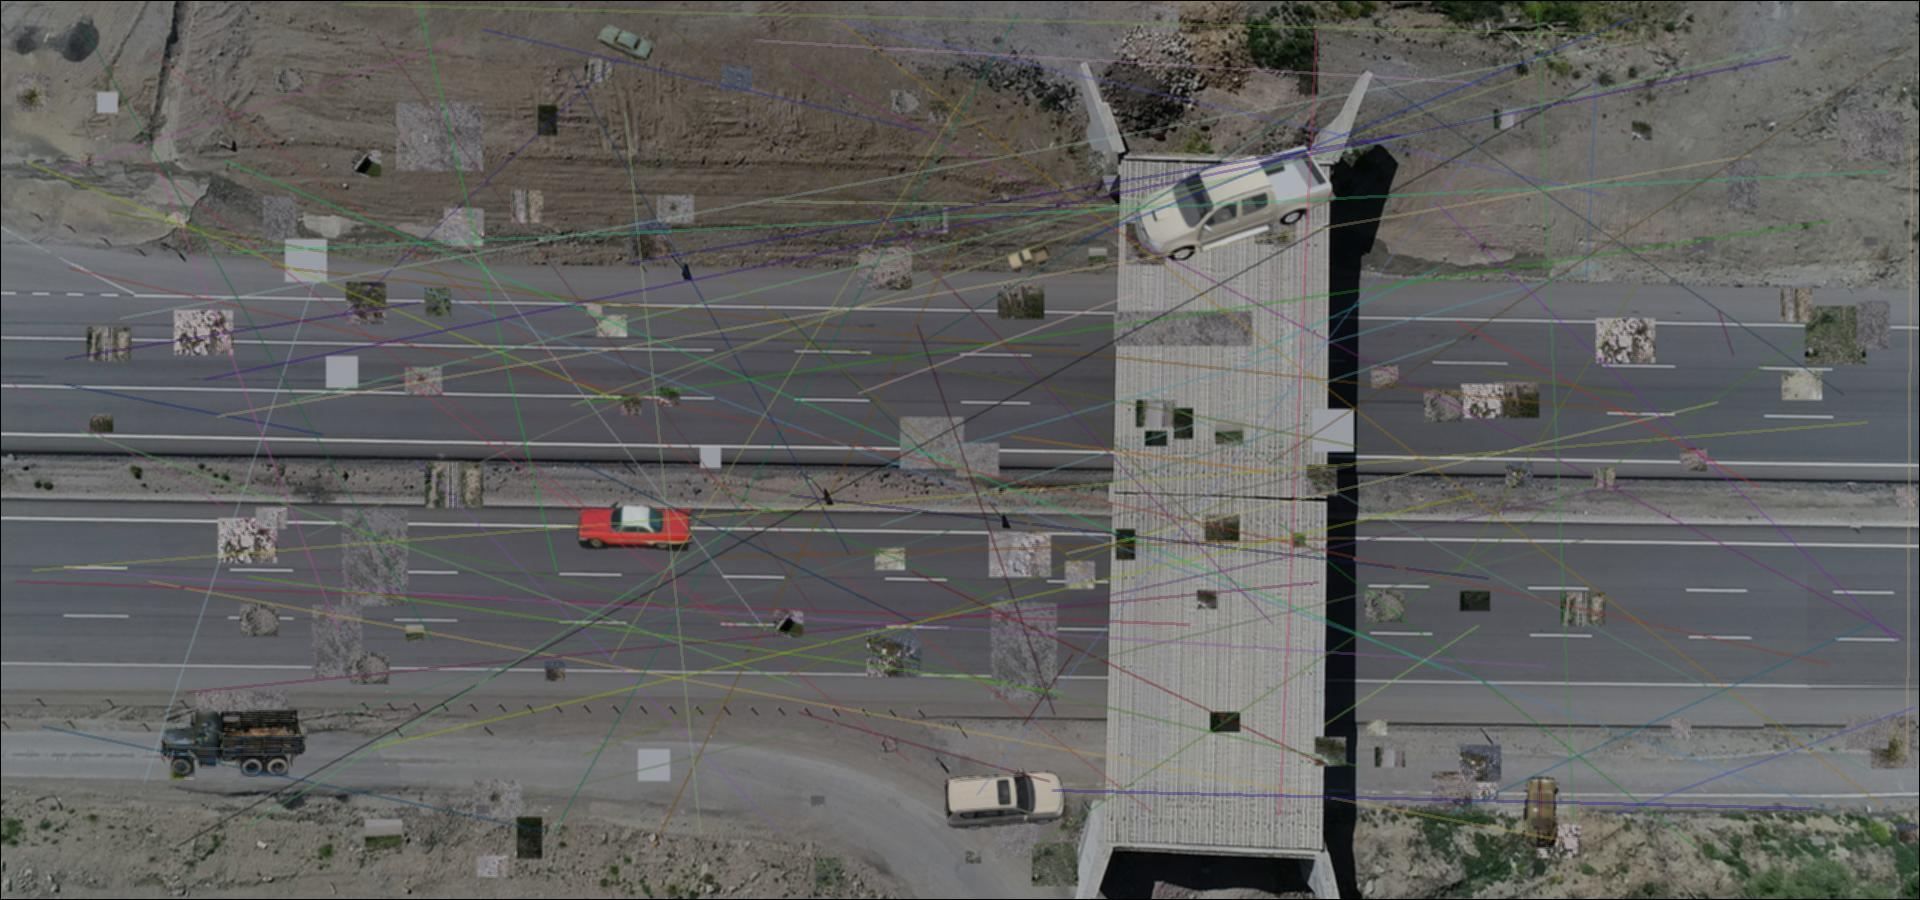arac: (1135, 144, 1337, 260), (159, 704, 309, 784), (943, 768, 1068, 830), (573, 502, 707, 551), (1521, 778, 1561, 849), (596, 22, 654, 62), (1007, 244, 1052, 273)
